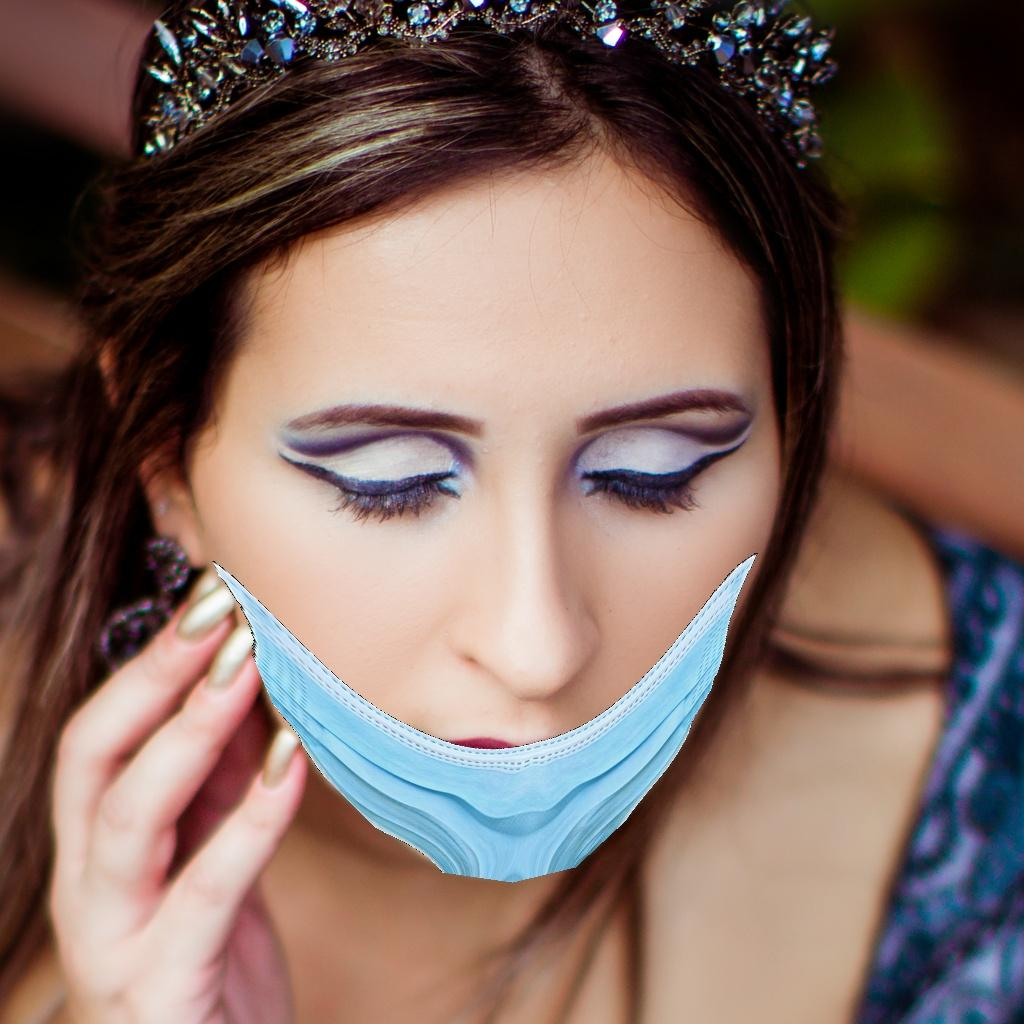Máscara Incorreta: (190, 248, 771, 877)
